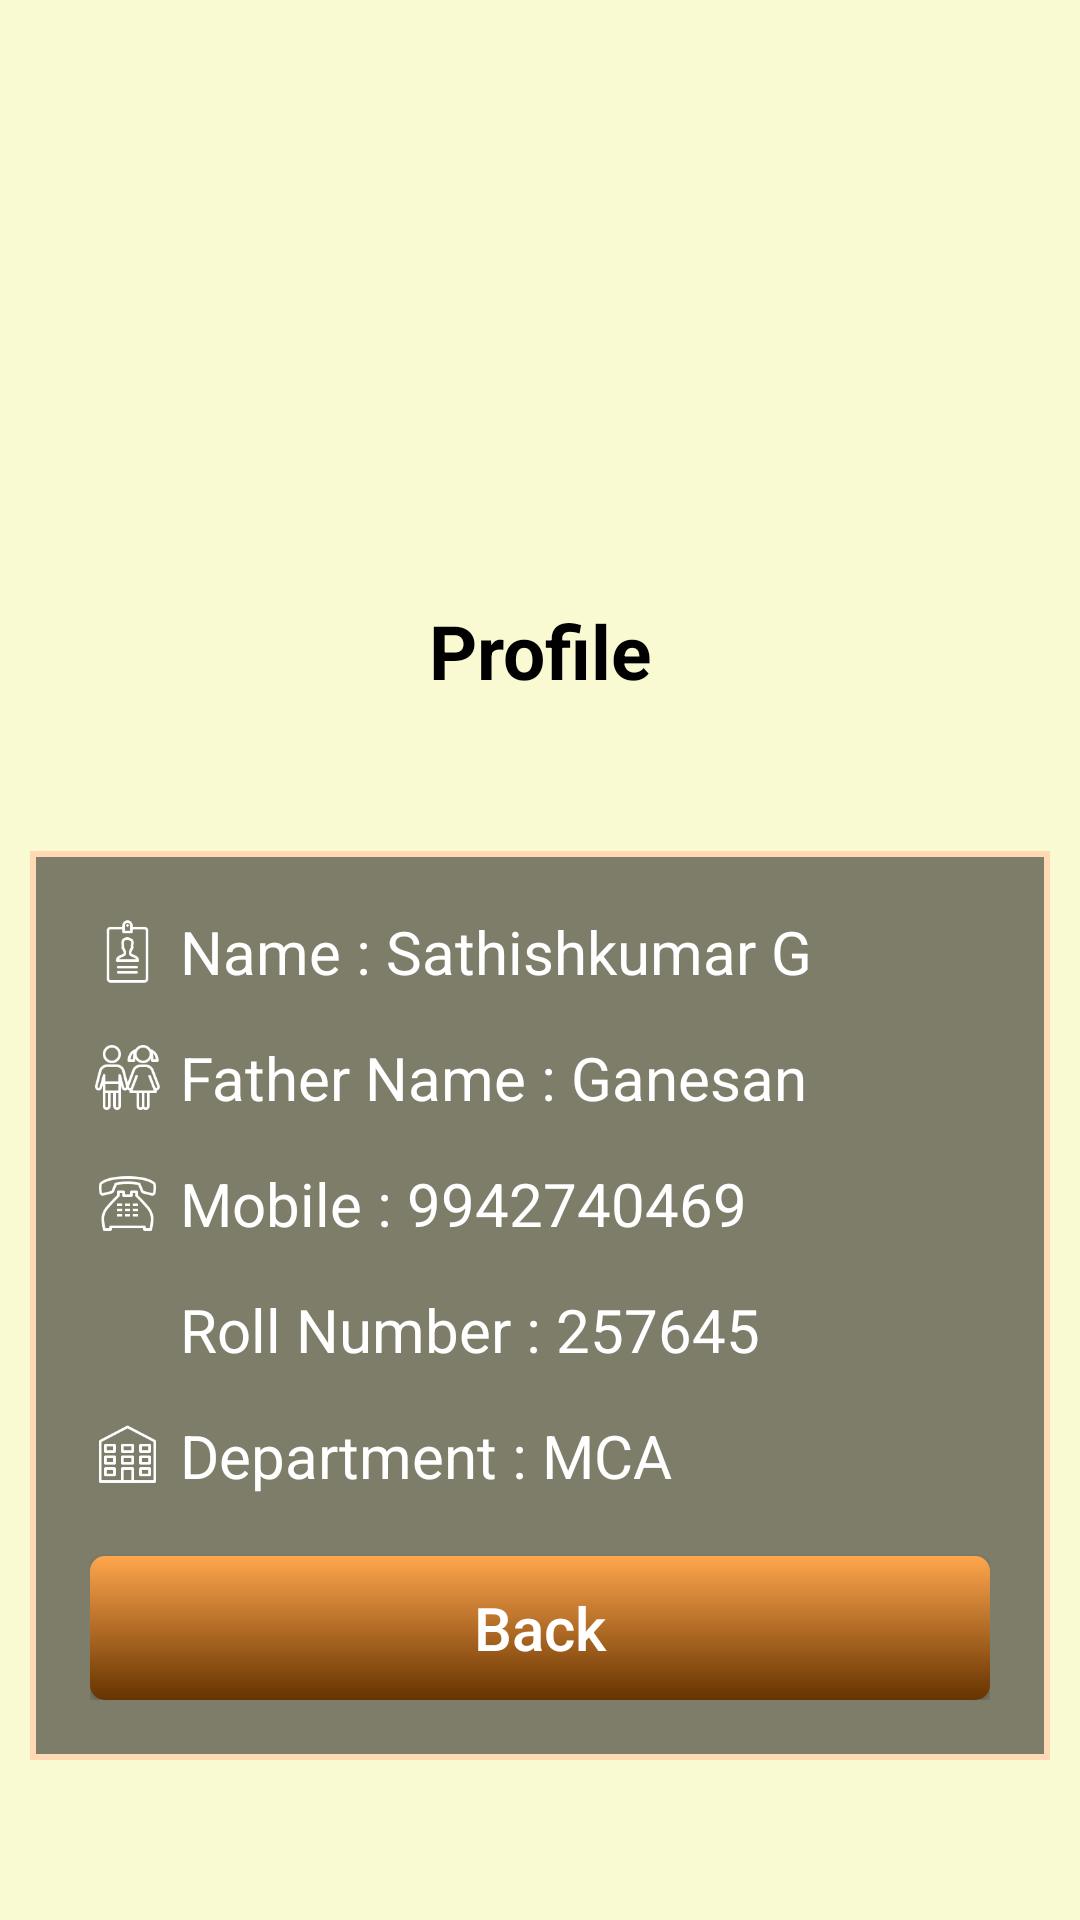

Screen size 1080 × 1920. Icon name, then its box in pixels as (x1=x1, y1=y1, x2=x2, y2=y2):
departmentoutline: (x1=99, y1=1425, x2=156, y2=1483)
nameoutline: (x1=106, y1=920, x2=149, y2=983)
parentsoutline: (x1=95, y1=1045, x2=160, y2=1110)
phoneoutline: (x1=99, y1=1176, x2=156, y2=1231)
